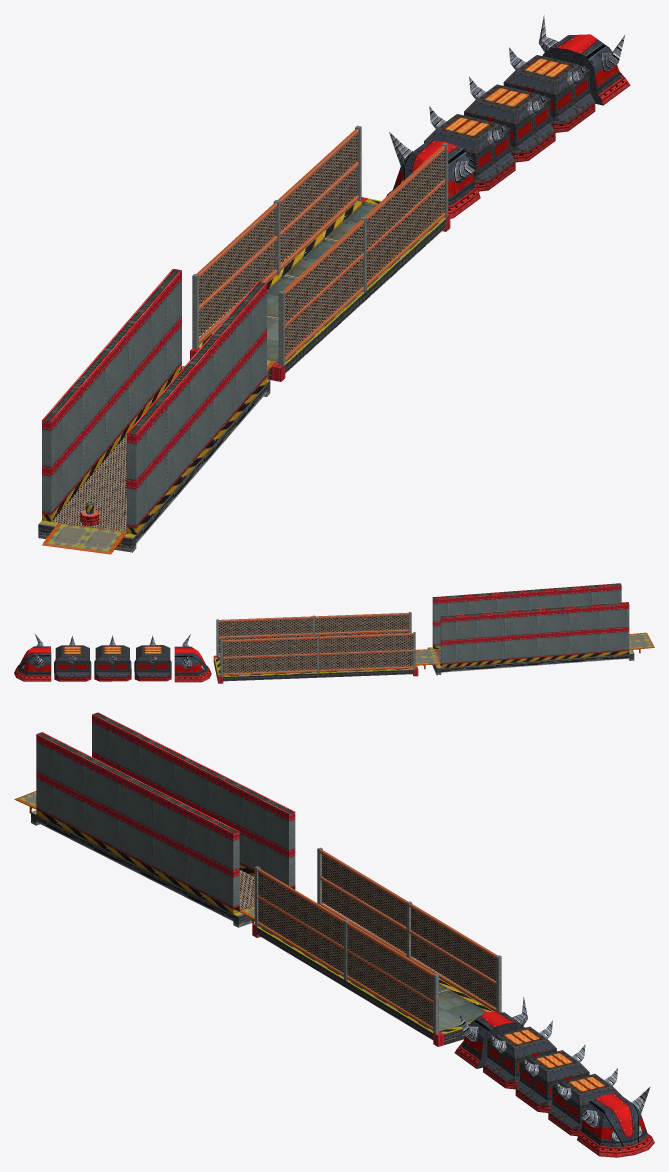
File: Mad_express6.obj
The picture shows the model from 3 angles, top to bottom: view 1: azimuth 30°, elevation 25°; view 2: azimuth 150°, elevation 25°; view 3: azimuth 270°, elevation 25°; orthographic projection. The views are drawn at different scales.
Visible parts, largest first — view 1: obj2, Object_2, obj1; view 2: obj2, Object_2, obj1; view 3: obj2, Object_2, obj1.
Boxes of the visible parts, box(x1,y1,x2,y2) form: obj2: box(38, 197, 450, 554); Object_2: box(192, 15, 630, 366); obj1: box(51, 135, 444, 531); obj2: box(213, 583, 654, 683); Object_2: box(14, 612, 415, 682); obj1: box(219, 615, 440, 673); obj2: box(14, 712, 494, 1046); Object_2: box(254, 847, 654, 1157); obj1: box(239, 854, 496, 1026).
Bounding box in the file's own units: 1068 × 126 × 794.
